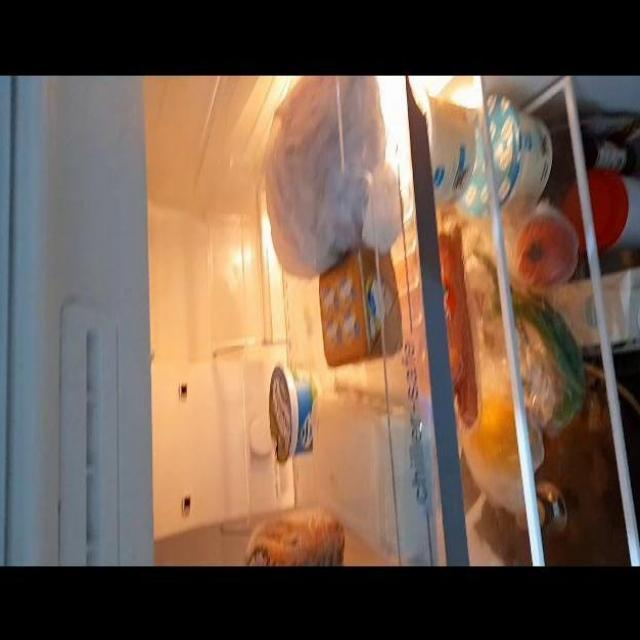Mantequilla: (320, 255, 390, 369)
Queso: (326, 409, 396, 536)
Yogur: (492, 102, 548, 192), (268, 365, 318, 458), (429, 94, 469, 204)
Zanahoria: (443, 227, 465, 421)
